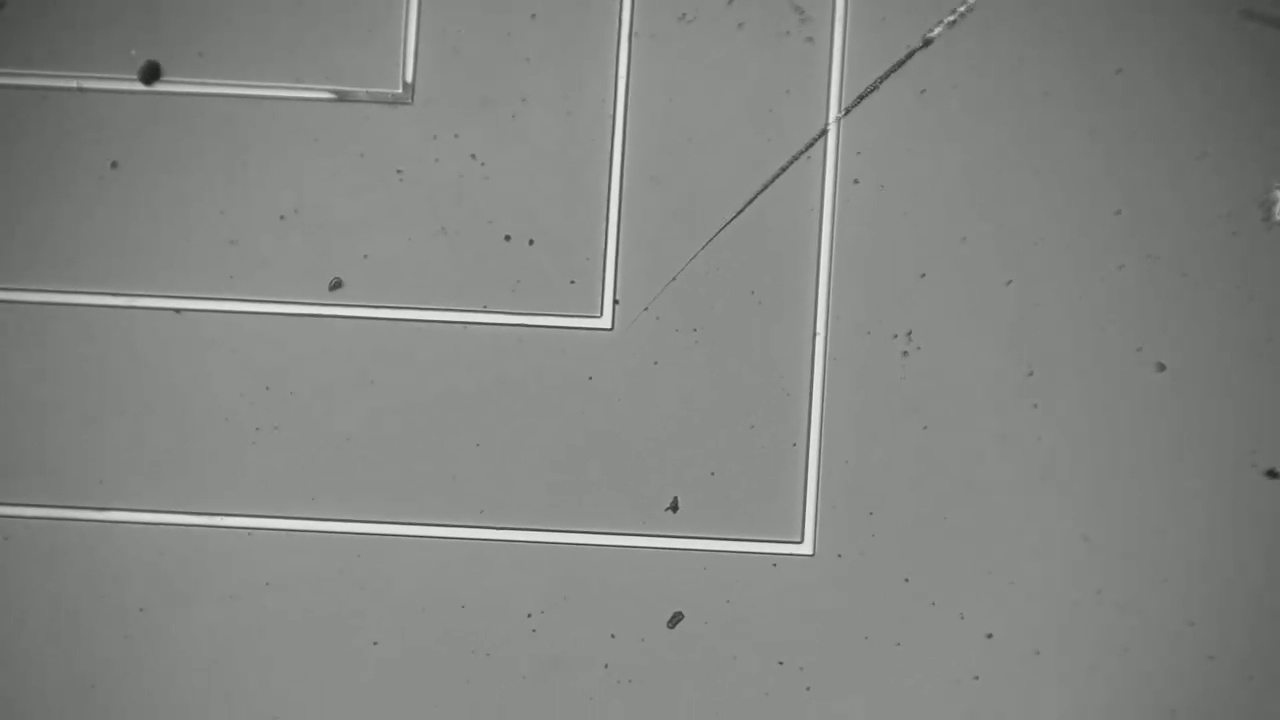gray_line: (319, 76, 423, 113), (388, 65, 423, 119)
scratch: (629, 1, 989, 321)
stains_enbedded: (122, 43, 176, 109)
